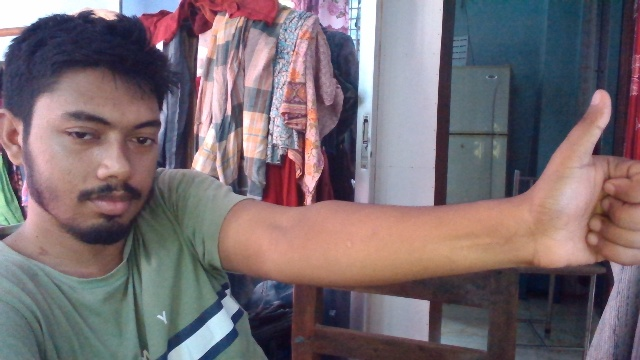yes: (557, 87, 640, 273)
